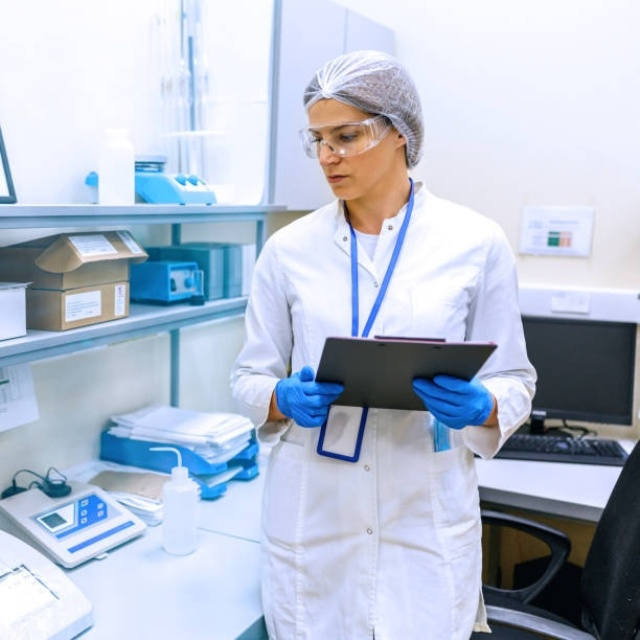Gafas: (300, 117, 392, 160)
Guantes: (412, 374, 493, 430), (275, 366, 344, 428)
Sin_mascara: (322, 166, 365, 200)
